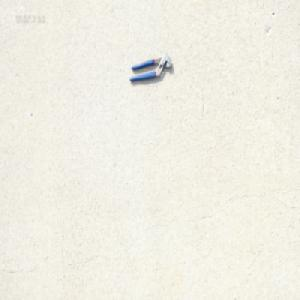Pliers: (129, 53, 172, 84)
